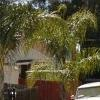Palm tree: (41, 8, 90, 83)
